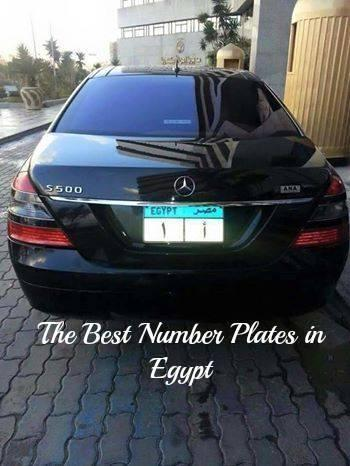1: (159, 220, 170, 240)
License Plate: (140, 203, 225, 246)
alef: (198, 220, 209, 240)
car: (7, 65, 350, 319)
